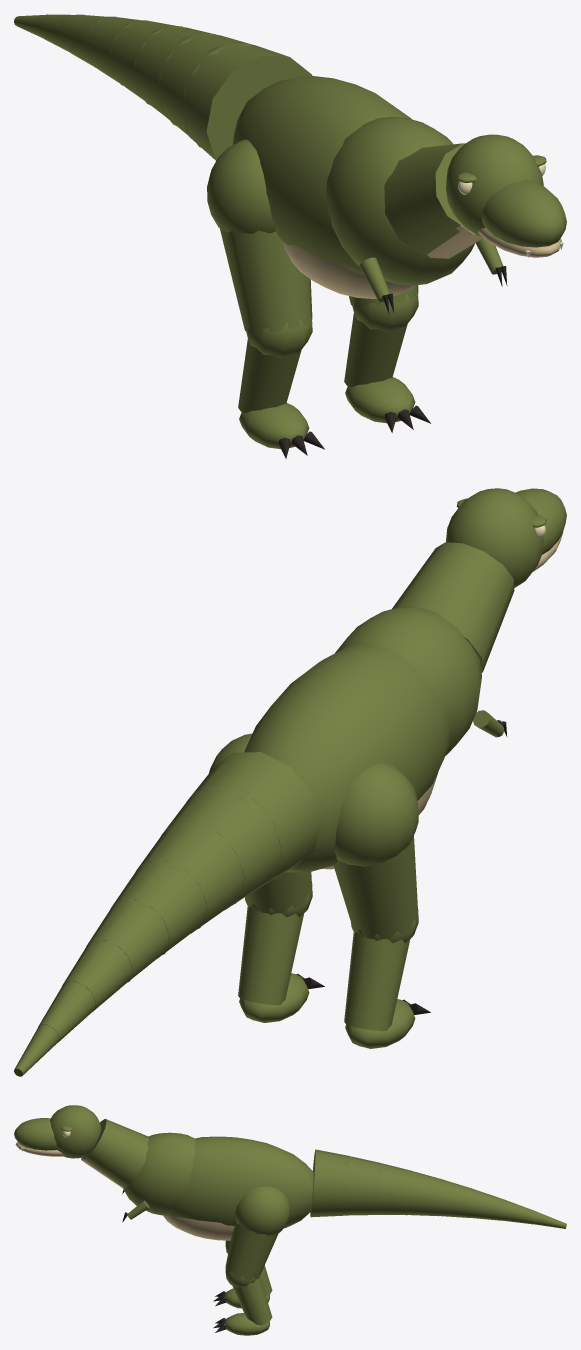
File: dino_rex.glb
The picture shows the model from 3 angles, top to bottom: view 1: azimuth 30°, elevation 25°; view 2: azimuth 150°, elevation 25°; view 3: azimuth 270°, elevation 25°; orthographic projection. The views are drawn at different scales.
Parts seen in each view (by area): view 1: dino_hips, dino_legs_0_hip, dino_head, dino_tail_0_p, dino_neckBase, dino_legs_0_knee, dino_legs_1_knee, dino_tail_1_p, dino_legs_0_ankle, dino_legs_1_ankle, dino_tail_2_p, dino_tail_3_p (+6 smaller); view 2: dino_hips, dino_legs_0_hip, dino_neckBase, dino_head, dino_tail_0_p, dino_tail_1_p, dino_legs_0_knee, dino_legs_1_knee, dino_tail_2_p, dino_tail_3_p, dino_tail_4_p, dino_tail_5_p (+5 smaller); view 3: dino_hips, dino_legs_1_hip, dino_head, dino_neckBase, dino_tail_0_p, dino_tail_1_p, dino_tail_2_p, dino_legs_1_knee, dino_tail_3_p, dino_tail_4_p, dino_tail_5_p, dino_legs_1_ankle (+3 smaller).
Part boxes in pixels (box(x1,y1,x2,y2)): dino_hips: box(233, 76, 474, 298); dino_legs_0_hip: box(207, 139, 312, 332); dino_head: box(446, 134, 566, 257); dino_tail_0_p: box(181, 44, 312, 160); dino_neckBase: box(384, 143, 483, 258); dino_legs_0_knee: box(238, 318, 312, 413); dino_legs_1_knee: box(344, 292, 418, 387); dino_tail_1_p: box(156, 34, 252, 147); dino_legs_0_ankle: box(239, 403, 324, 458); dino_legs_1_ankle: box(345, 377, 431, 432); dino_tail_2_p: box(132, 26, 218, 125); dino_tail_3_p: box(108, 20, 183, 105); dino_hips: box(244, 606, 481, 872); dino_legs_0_hip: box(333, 763, 418, 938); dino_neckBase: box(392, 542, 514, 672); dino_head: box(446, 488, 566, 587); dino_tail_0_p: box(186, 752, 320, 888); dino_tail_1_p: box(161, 783, 282, 909); dino_legs_0_knee: box(344, 909, 418, 1031); dino_legs_1_knee: box(238, 883, 312, 1005); dino_tail_2_p: box(136, 820, 245, 933); dino_tail_3_p: box(111, 858, 207, 958); dino_tail_4_p: box(86, 897, 170, 982); dino_tail_5_p: box(62, 937, 133, 1010); dino_hips: box(123, 1132, 313, 1240); dino_legs_1_hip: box(225, 1186, 290, 1279); dino_head: box(14, 1105, 101, 1158); dino_neckBase: box(81, 1119, 149, 1188); dino_tail_0_p: box(310, 1149, 348, 1217); dino_tail_1_p: box(341, 1155, 380, 1215); dino_tail_2_p: box(373, 1163, 412, 1215); dino_legs_1_knee: box(225, 1266, 272, 1325); dino_tail_3_p: box(405, 1171, 444, 1216); dino_tail_4_p: box(437, 1179, 475, 1217); dino_tail_5_p: box(469, 1189, 506, 1220); dino_legs_1_ankle: box(213, 1313, 269, 1335).
Bounding box in the file's own units: 2.94 × 5.86 × 13.77.
